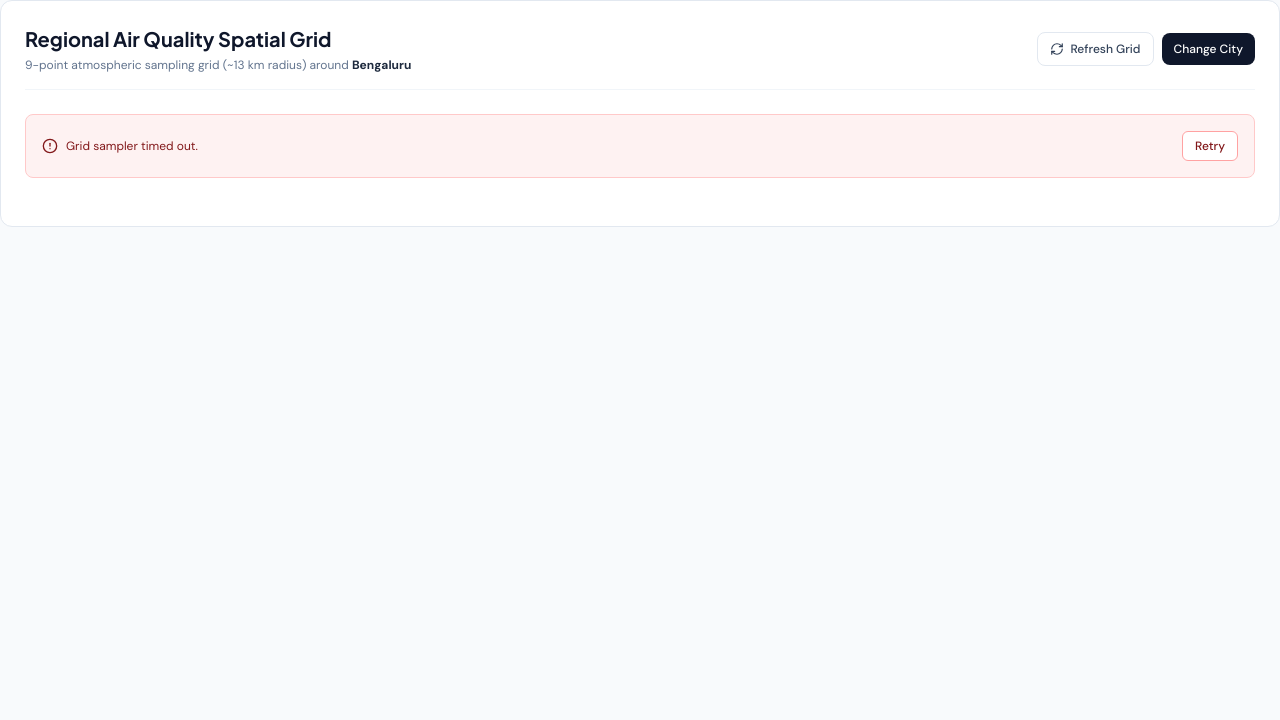
UI Hooks & Refactored Views: useAsyncAction, TrendChart, CommuteAssistantView, AirQualityMapView › loads 9-sector regional grid after Retry and updates inspector on sector click in AirQualityMapView
The image size is (1280, 720).
Expected: the text "Grid sampler timed out." is shown, [42,138,198,154]
Click the button "Retry". click: x=1210, y=146
box: [1182,131,1238,161]
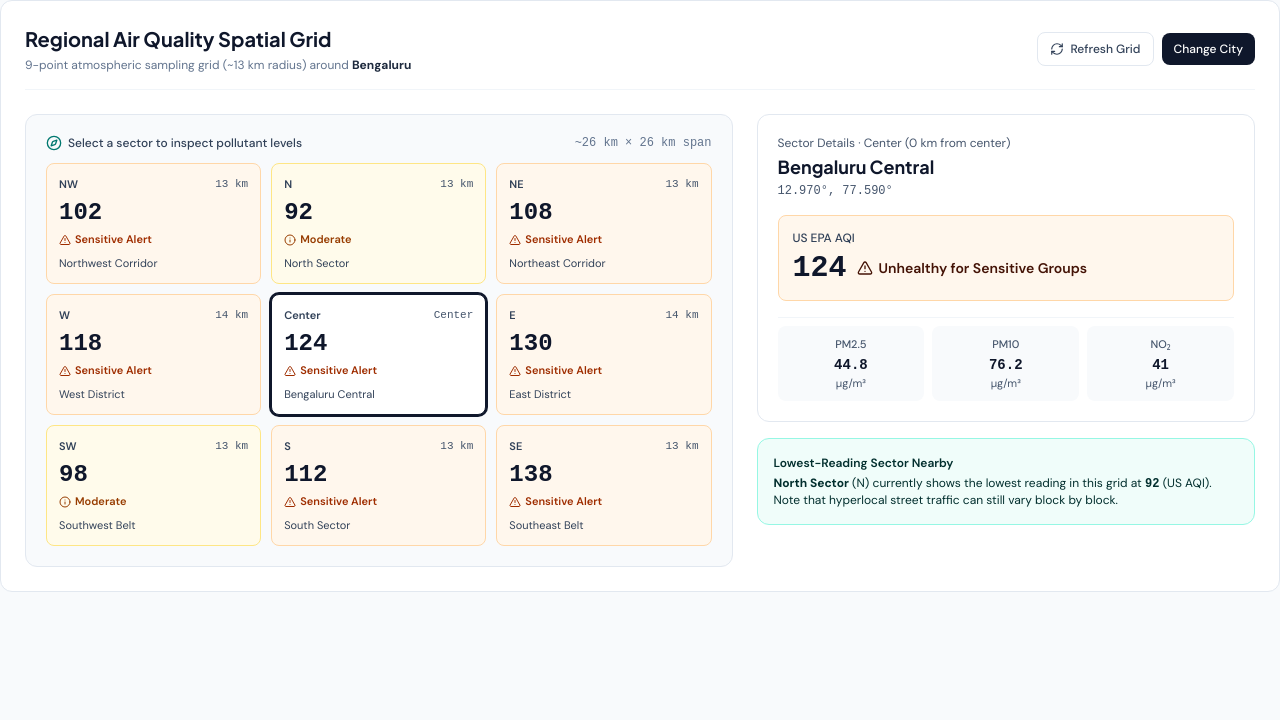
Click the button with aria-label "N sector, North Sector". click: x=379, y=224
box: [271,163,486,284]
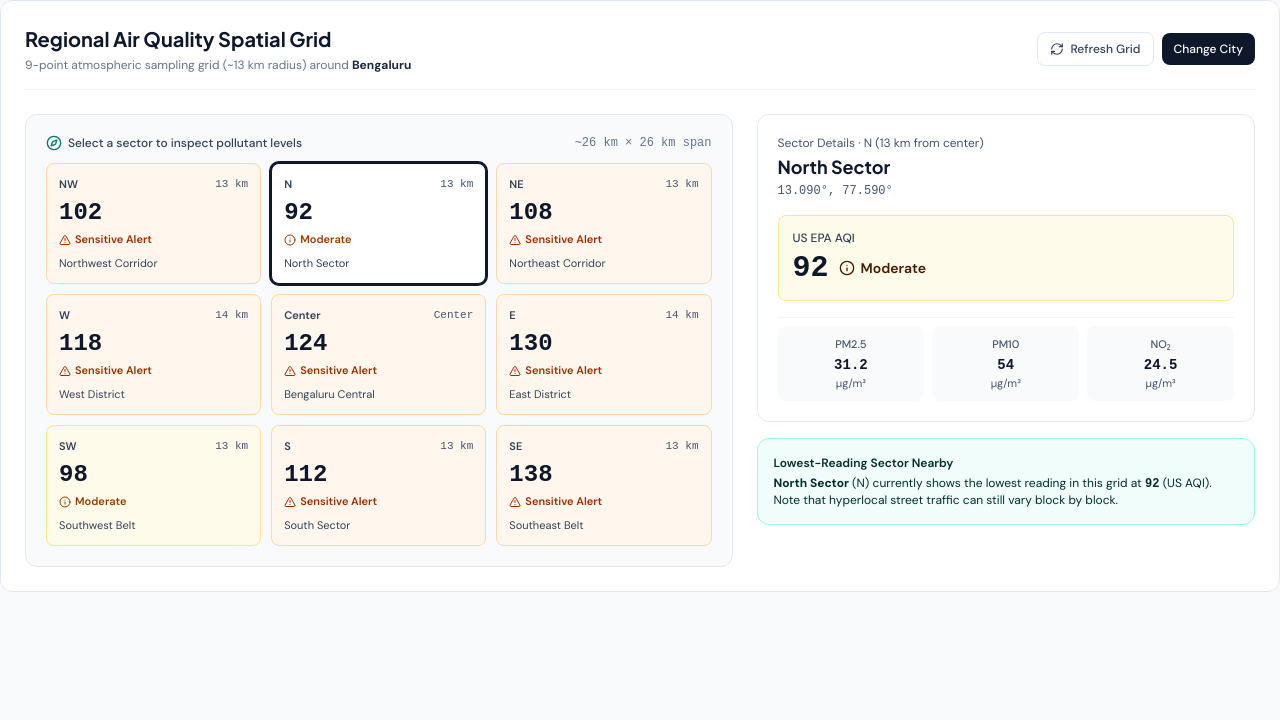
Expected: the heading "North Sector" is shown, [778,155,890,178]
